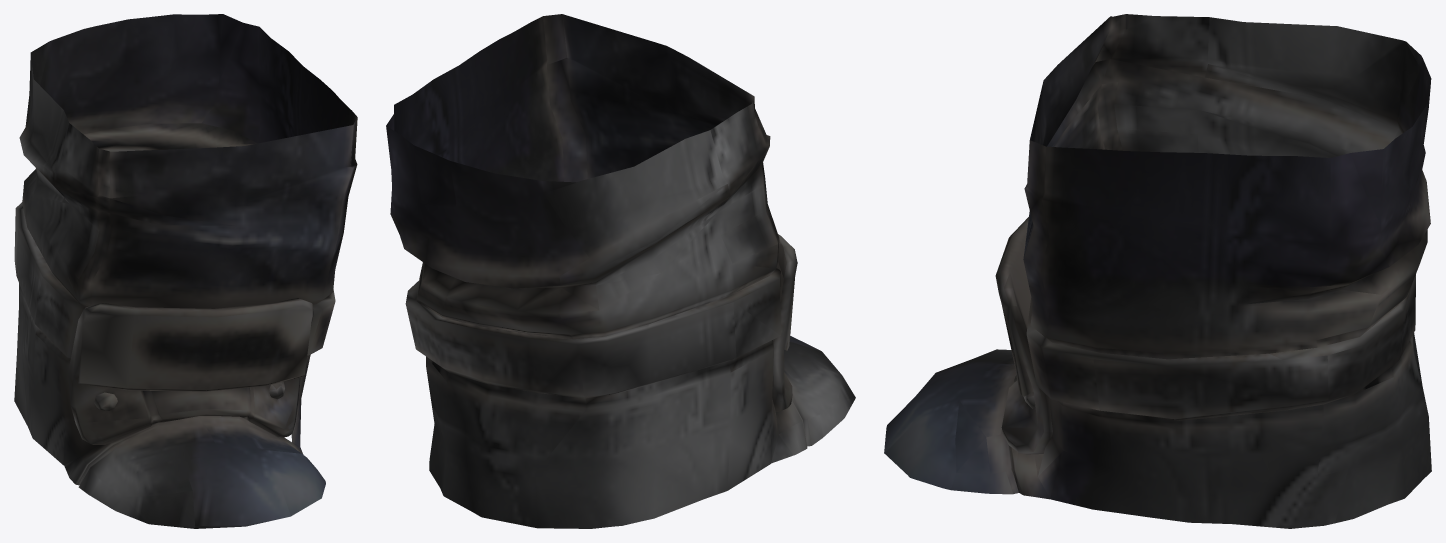
The model's file is RightLowerLeg.glb.
3 renders of one model, left to right at view 1: azimuth 30°, elevation 25°; view 2: azimuth 150°, elevation 25°; view 3: azimuth 270°, elevation 25°, orthographic. The views are drawn at different scales.
Parts seen in each view (by area): view 1: RightLowerLeg; view 2: RightLowerLeg; view 3: RightLowerLeg.
Part boxes in pixels (left/top/right/bottom): RightLowerLeg: left=14, top=14, right=357, bottom=528; RightLowerLeg: left=386, top=14, right=855, bottom=528; RightLowerLeg: left=884, top=14, right=1431, bottom=528.
Size of the model in its own units: 1.28 by 1.37 by 1.77.
Materials: 1 (1 with a texture image).
